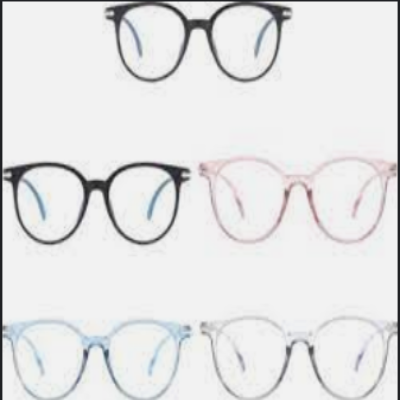glasses: (201, 155, 397, 247), (2, 159, 197, 251), (100, 1, 295, 89), (202, 312, 397, 400), (3, 315, 195, 400)
